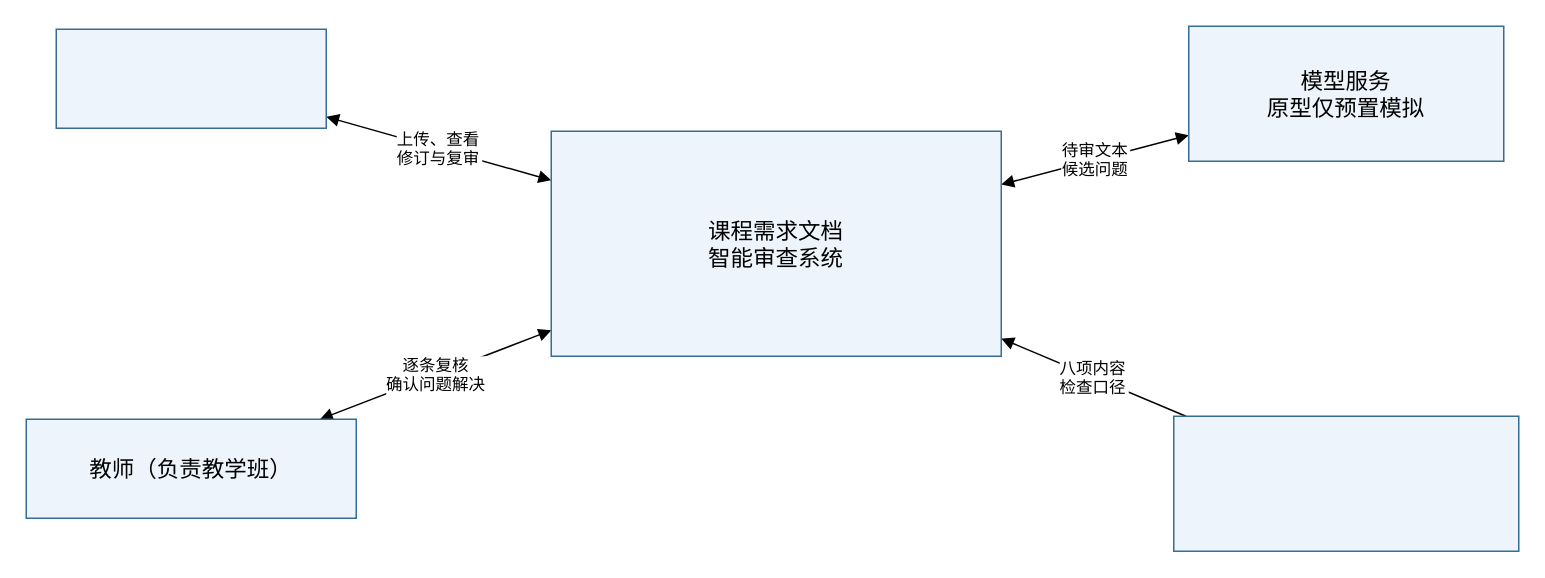
Image size: 1545x578. Some labels were removed from this diagram. The shapes that lost their labels are listed below. From the top down, each one's box as (x1, y1, x2, y2) in pixels, then its label:
(55, 28, 326, 128): 学生作者（本组）
(1172, 415, 1519, 551): 本组模板 TPL-COURSE-01 v0.1
